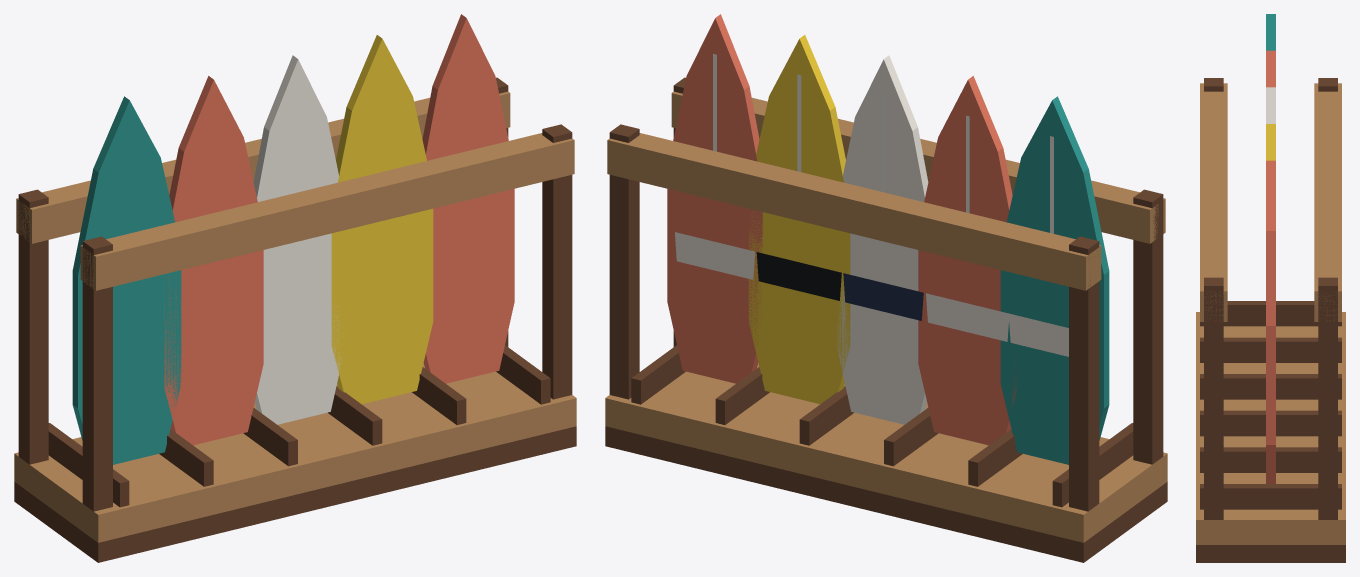
The model's file is surfboard_rack.glb.
3 renders of one model, left to right at view 1: azimuth 30°, elevation 25°; view 2: azimuth 150°, elevation 25°; view 3: azimuth 270°, elevation 25°, orthographic. The views are drawn at different scales.
Parts seen in each view (by area): view 1: Body; view 2: Body; view 3: Body.
Part boxes in pixels (x1,y1,x2,y2): Body: (14,14,576,562); Body: (605,14,1167,562); Body: (1196,14,1345,562).
Bounding box in the file's own units: 2.5 × 2.08 × 0.76.
